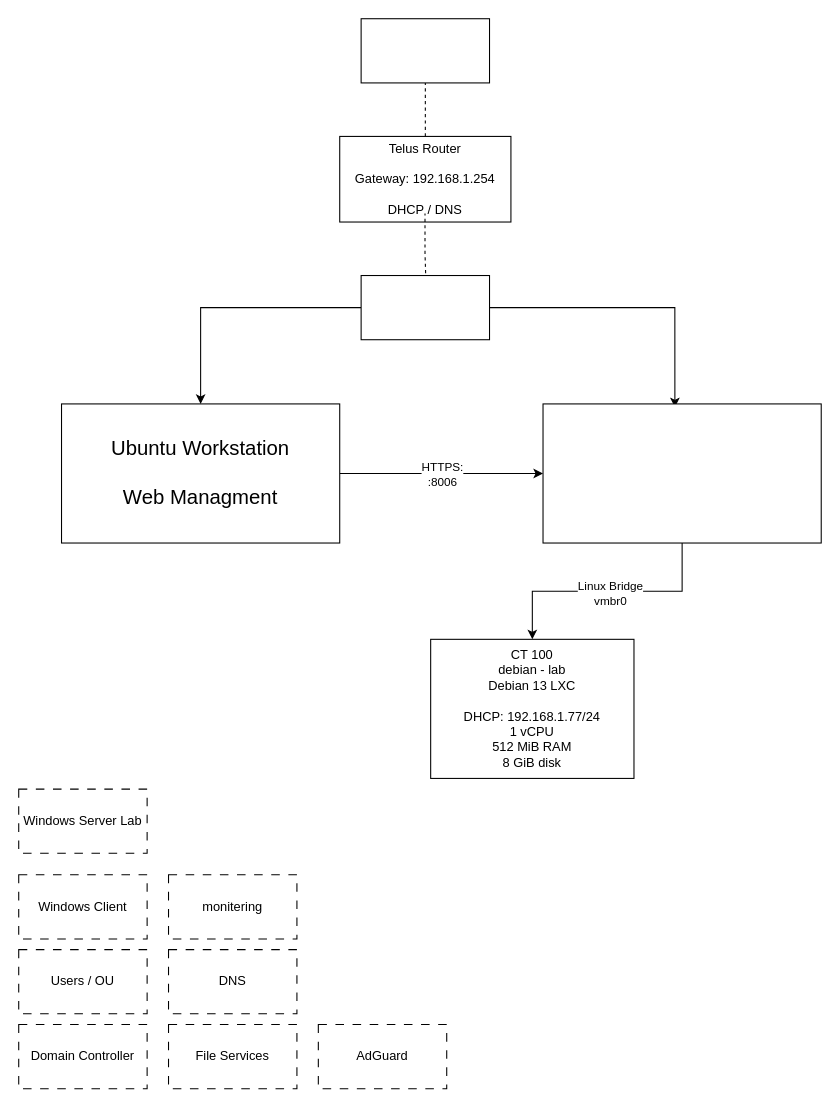
Some shapes in this 840 by 1107 pixel diagram are drawn without their labels. The centre of each missing label's shape, as x and y in pixels:
"Home LAN 192.168.1.0/24 LAN" goes at (x=425, y=307).
"Internet" goes at (x=425, y=50).
"Lenovo M93p Proxmox VE 9.2 192.168.1.10/24 vmbr0" goes at (x=681, y=473).
